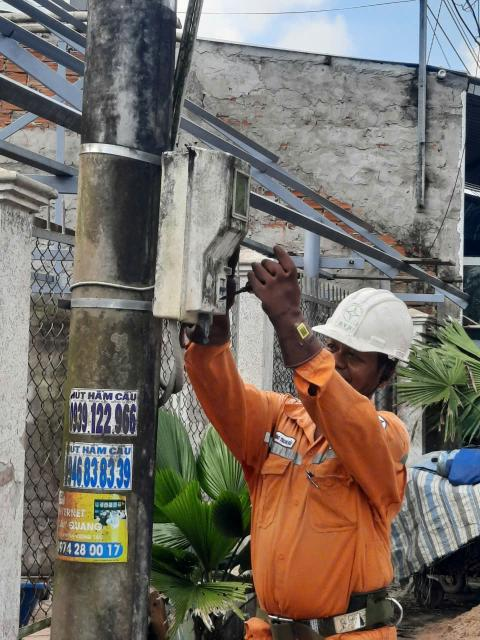gloves: (237, 239, 324, 366)
helmet: (307, 273, 434, 364)
